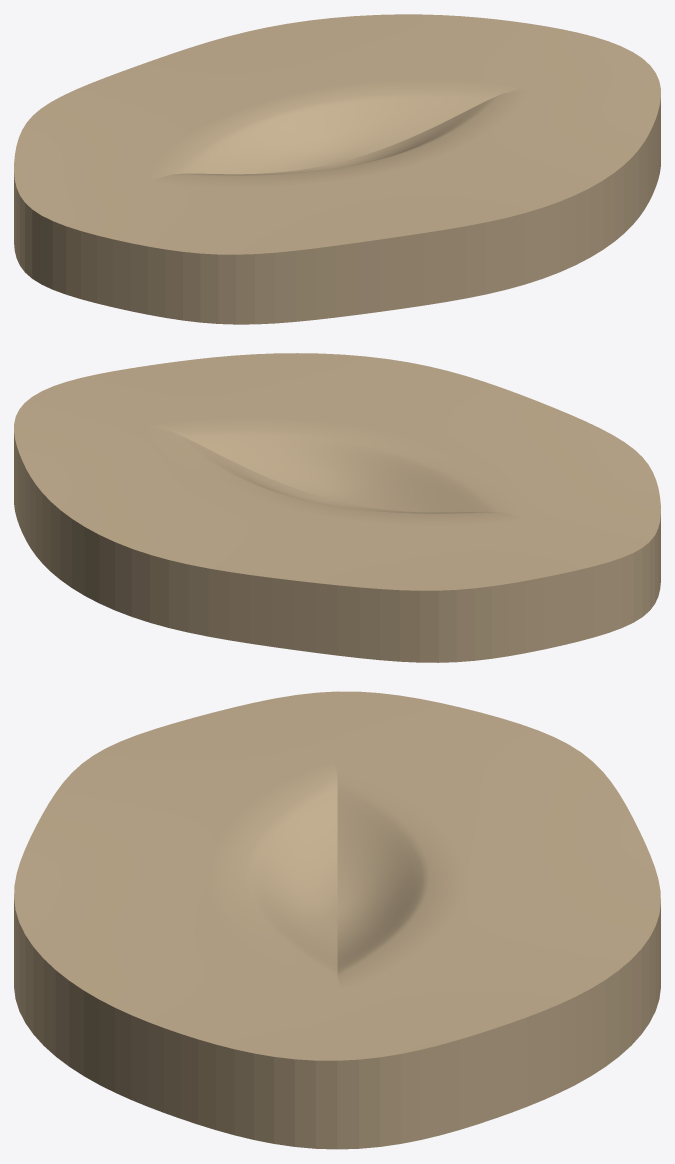
The model's file is lockeia-resting-trace.glb.
The picture shows the model from 3 angles, top to bottom: view 1: azimuth 30°, elevation 25°; view 2: azimuth 150°, elevation 25°; view 3: azimuth 270°, elevation 25°; orthographic projection. The views are drawn at different scales.
Visible parts, largest first — view 1: Actual almond negative relief in continuous sediment; view 2: Actual almond negative relief in continuous sediment; view 3: Actual almond negative relief in continuous sediment.
Boxes of the visible parts, x1,y1,x2,y2 form: Actual almond negative relief in continuous sediment: [14, 14, 660, 324]; Actual almond negative relief in continuous sediment: [14, 353, 660, 662]; Actual almond negative relief in continuous sediment: [14, 691, 660, 1149].
Size of the model in its own units: 0.2 by 0.0227 by 0.1472.
